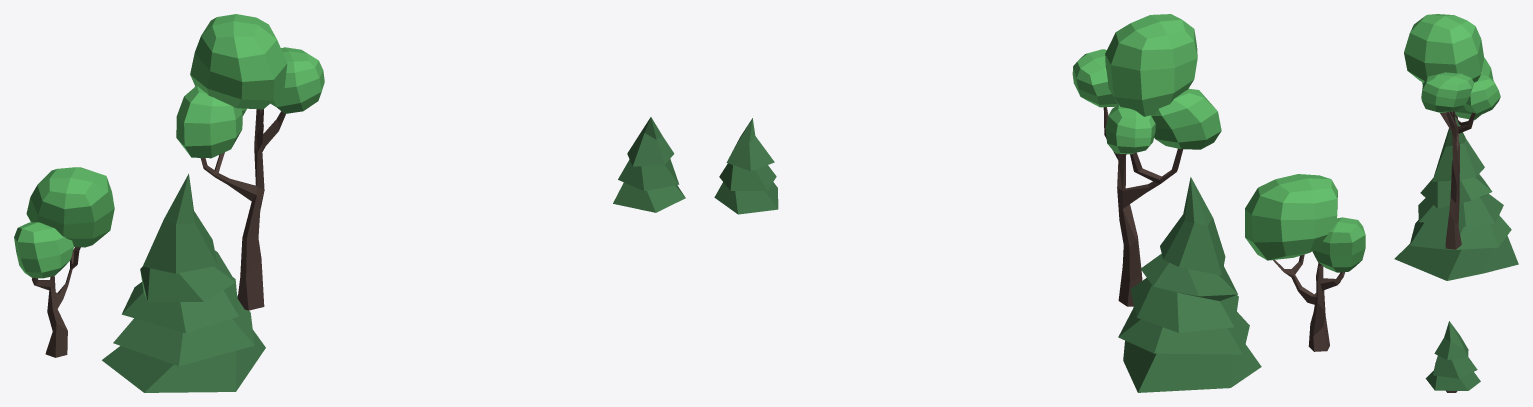
File: ONES.fbx
3 renders of one model, left to right at view 1: azimuth 30°, elevation 25°; view 2: azimuth 150°, elevation 25°; view 3: azimuth 270°, elevation 25°, orthographic. The views are drawn at different scales.
Visible parts, largest first — view 1: Circle.014, Cube.026, Cube.023, Circle.017; view 2: Circle.014, Cube.026, Cube.023, Circle.017; view 3: Circle.014, Cube.026, Circle.017, Cube.023.
Part boxes in pixels (left/top/right/bottom): Circle.014: left=102, top=173, right=265, bottom=392; Cube.026: left=176, top=14, right=324, bottom=310; Cube.023: left=14, top=167, right=114, bottom=357; Circle.017: left=613, top=117, right=685, bottom=212; Circle.014: left=1118, top=177, right=1261, bottom=392; Cube.026: left=1072, top=14, right=1221, bottom=306; Cube.023: left=1245, top=174, right=1365, bottom=351; Circle.017: left=714, top=118, right=778, bottom=214; Circle.014: left=1394, top=116, right=1518, bottom=280; Cube.026: left=1404, top=14, right=1500, bottom=249; Circle.017: left=1425, top=321, right=1480, bottom=392; Cube.023: left=1449, top=57, right=1493, bottom=125.
Size of the model in its own units: 8796 by 4464 by 1907.
